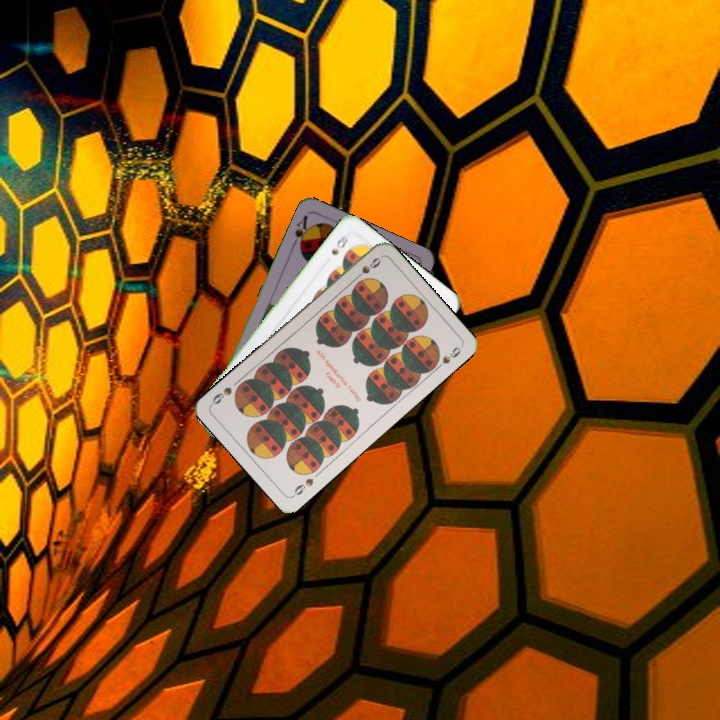S8: (327, 231, 351, 258)
S9: (349, 253, 383, 284), (288, 474, 316, 499)
SA: (288, 211, 314, 252)
